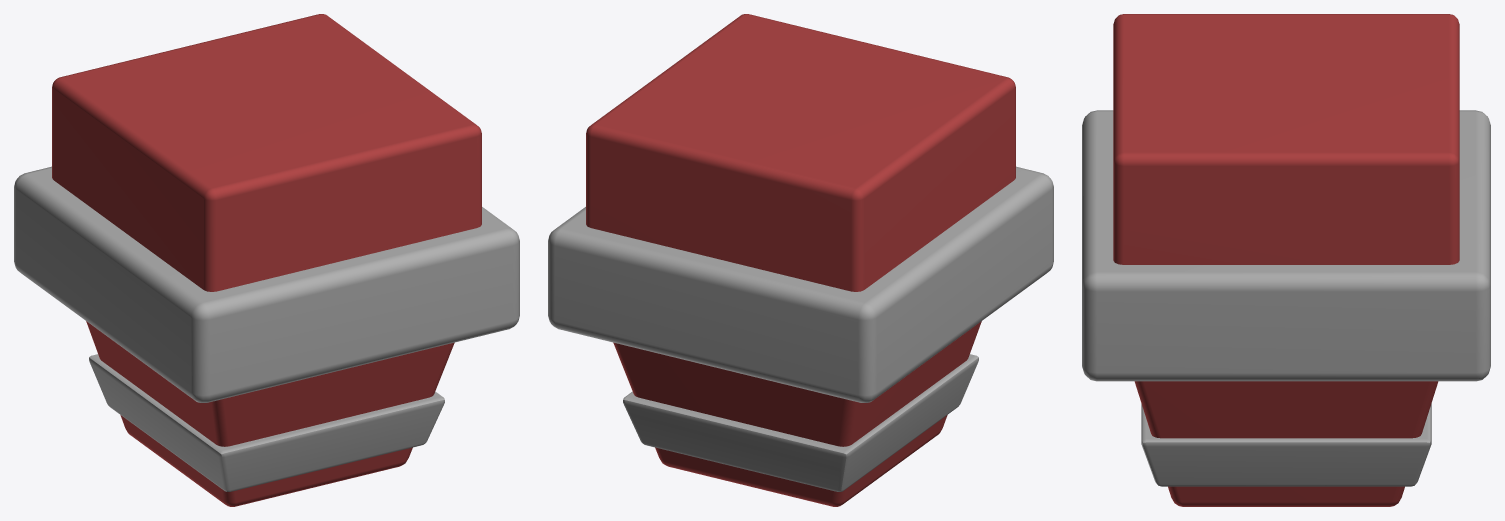
Rendered from Platform_Stylized.fbx.
3 renders of one model, left to right at view 1: azimuth 30°, elevation 25°; view 2: azimuth 150°, elevation 25°; view 3: azimuth 270°, elevation 25°, orthographic. The views are drawn at different scales.
Visible parts, largest first — view 1: Platform_Base, Platform_Emissive, Platform_Emissive2; view 2: Platform_Base, Platform_Emissive, Platform_Emissive2; view 3: Platform_Base, Platform_Emissive, Platform_Emissive2.
Part boxes in pixels (left/top/right/bottom): Platform_Base: left=52, top=14, right=481, bottom=506; Platform_Emissive: left=14, top=166, right=519, bottom=402; Platform_Emissive2: left=89, top=354, right=444, bottom=491; Platform_Base: left=586, top=14, right=1015, bottom=506; Platform_Emissive: left=548, top=166, right=1053, bottom=402; Platform_Emissive2: left=623, top=354, right=978, bottom=491; Platform_Base: left=1113, top=14, right=1459, bottom=506; Platform_Emissive: left=1082, top=110, right=1490, bottom=381; Platform_Emissive2: left=1141, top=403, right=1431, bottom=486.
Size of the model in its own units: 137 by 140 by 137.
